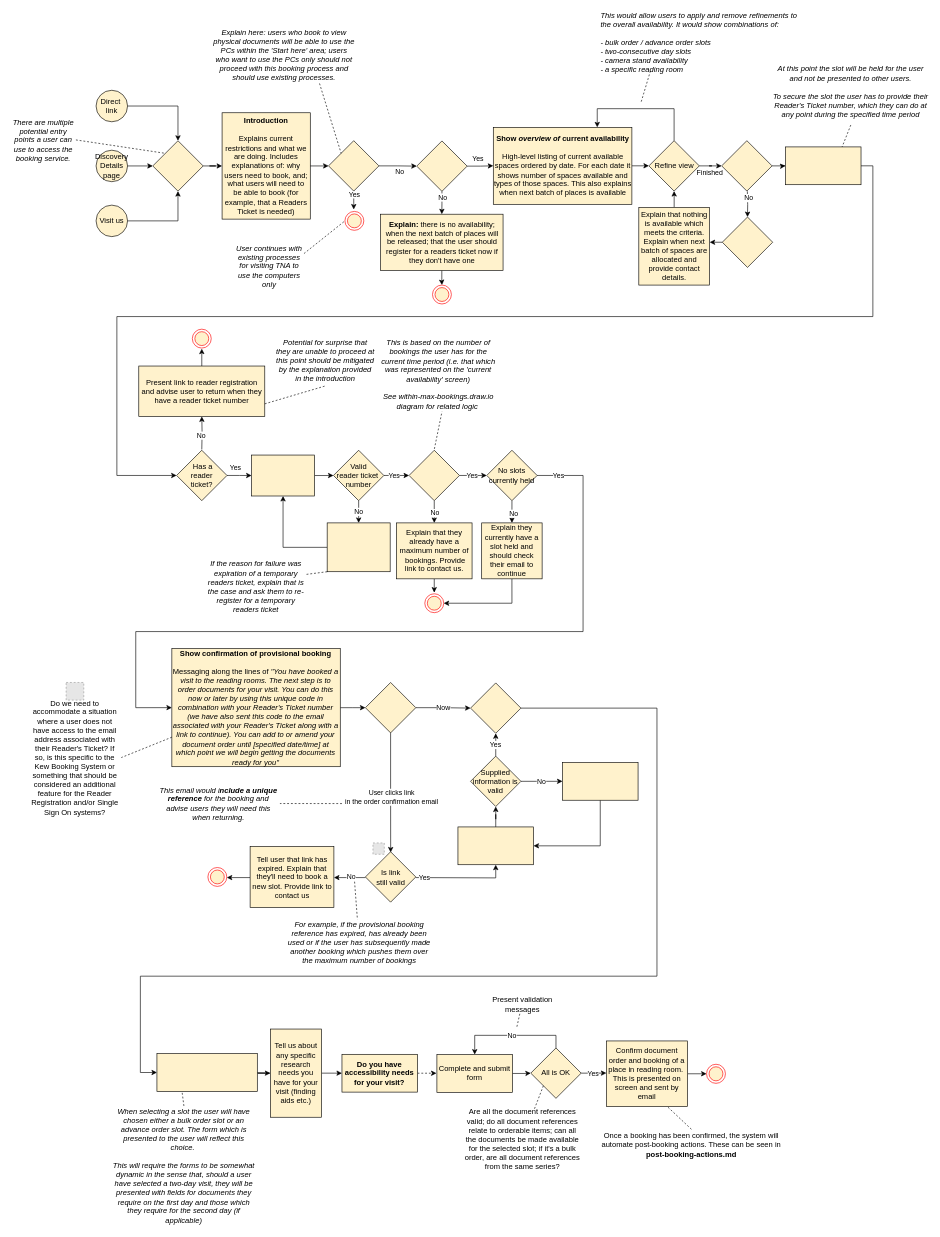
This 940x1237 diagram has some shape labels left out. Grey dashed boxes stand in for pictures. Here are the shapes that lost their labels. From the top down, the centre of each, then its label:
At [353,165]: "Computer use only?".
At [441,165]: "Is there availability?".
At [746,165]: "Option available".
At [823,165]: "Selects a slot to hold (for a specified time period)".
At [283,475]: "Enter reader ticket number to hold slot".
At [433,475]: "Within max bookings".
At [358,547]: "Present error message and ask to user to try again".
At [390,707]: "Continue".
At [600,781]: "Explain that reference and/or Reader's Ticket are not valid".
At [495,845]: "Ask user for reference and their Reader's Ticket number".
At [206,1072]: "Present form that corresponds to the booking the user has made.".
